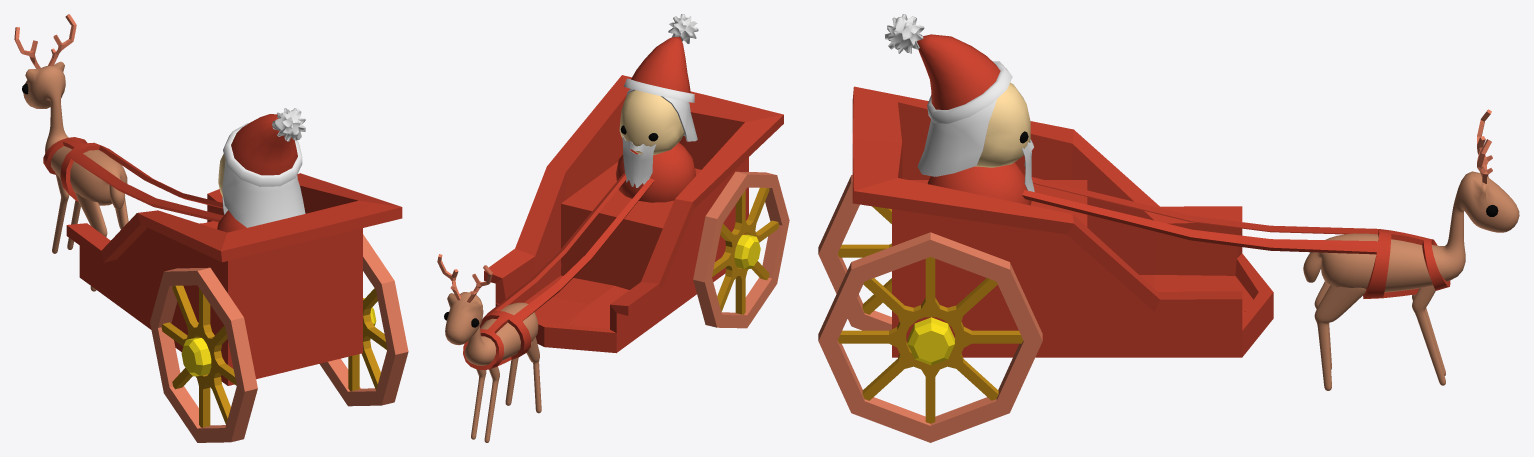
File: trineo.fbx
3 views of the same model, side by side, from view 1: azimuth 30°, elevation 25°; view 2: azimuth 150°, elevation 25°; view 3: azimuth 270°, elevation 25° (orthographic). The views are drawn at different scales.
Visible parts, largest first — view 1: Cube, Circle, Plane, Circle.001, Sphere.001, Plane.002, Sphere.002, Cylinder, Plane.001; view 2: Cube, Circle, Plane, Plane.002, Sphere.001, Circle.001, Sphere.003, Sphere, beard, Cylinder, Sphere.002, Plane.001; view 3: Cube, Circle, Plane, Plane.002, Circle.001, Sphere.001, Sphere.002, Sphere.003, Sphere, Cylinder.
Boxes of the visible parts, <box> form: Cube: <box>66,173,402,385</box>; Circle: <box>150,234,408,442</box>; Plane: <box>23,61,128,291</box>; Circle.001: <box>161,285,387,427</box>; Sphere.001: <box>223,108,305,186</box>; Plane.002: <box>43,137,223,222</box>; Sphere.002: <box>222,161,305,227</box>; Cylinder: <box>181,298,376,376</box>; Plane.001: <box>14,14,76,68</box>; Cube: <box>484,75,783,353</box>; Circle: <box>693,171,789,328</box>; Plane: <box>445,292,541,442</box>; Plane.002: <box>463,172,654,370</box>; Sphere.001: <box>624,14,698,102</box>; Circle.001: <box>712,187,779,314</box>; Sphere.003: <box>619,90,684,154</box>; Sphere: <box>615,142,695,202</box>; beard: <box>622,135,656,187</box>; Cylinder: <box>734,234,760,268</box>; Sphere.002: <box>626,89,697,141</box>; Plane.001: <box>437,254,492,302</box>; Cube: <box>852,86,1273,357</box>; Circle: <box>818,175,1042,442</box>; Plane: <box>1303,171,1519,390</box>; Plane.002: <box>1022,175,1450,298</box>; Circle.001: <box>837,206,1023,423</box>; Sphere.001: <box>885,14,1012,123</box>; Sphere.002: <box>917,99,996,176</box>; Sphere.003: <box>975,82,1030,167</box>; Sphere: <box>927,162,1031,205</box>; Cylinder: <box>907,317,954,365</box>.
Size of the model in its own units: 268 by 455 by 761.
